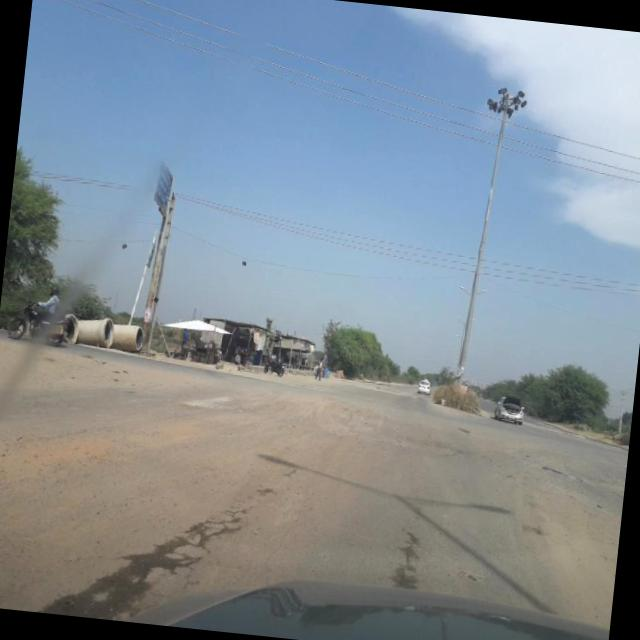crack: (137, 480, 258, 585)
